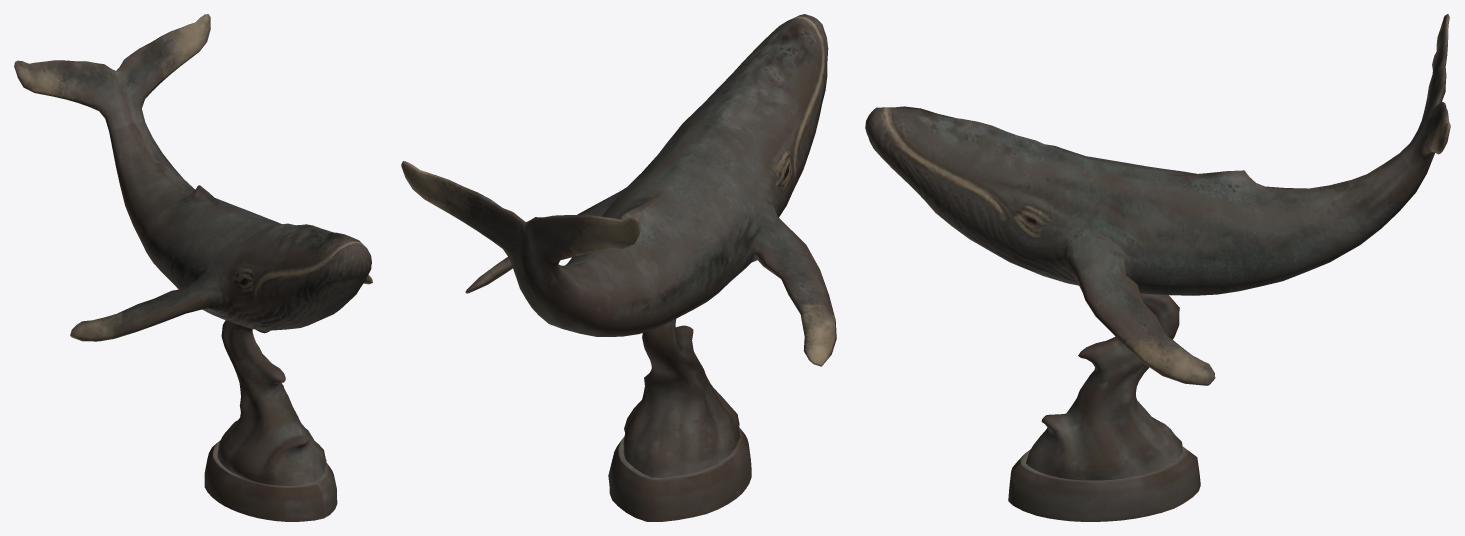
File: bronze_whale_statue.glb
3 renders of one model, left to right at view 1: azimuth 30°, elevation 25°; view 2: azimuth 150°, elevation 25°; view 3: azimuth 270°, elevation 25°, orthographic. The views are drawn at different scales.
Visible parts, largest first — view 1: bronze_whale_statue; view 2: bronze_whale_statue; view 3: bronze_whale_statue.
Part boxes in pixels (x1,y1,x2,y2): bronze_whale_statue: [14, 14, 372, 521]; bronze_whale_statue: [401, 14, 836, 521]; bronze_whale_statue: [865, 14, 1450, 521].
Size of the model in its own units: 0.932 by 1.07 by 1.37.
Materials: 1 (1 with a texture image).
